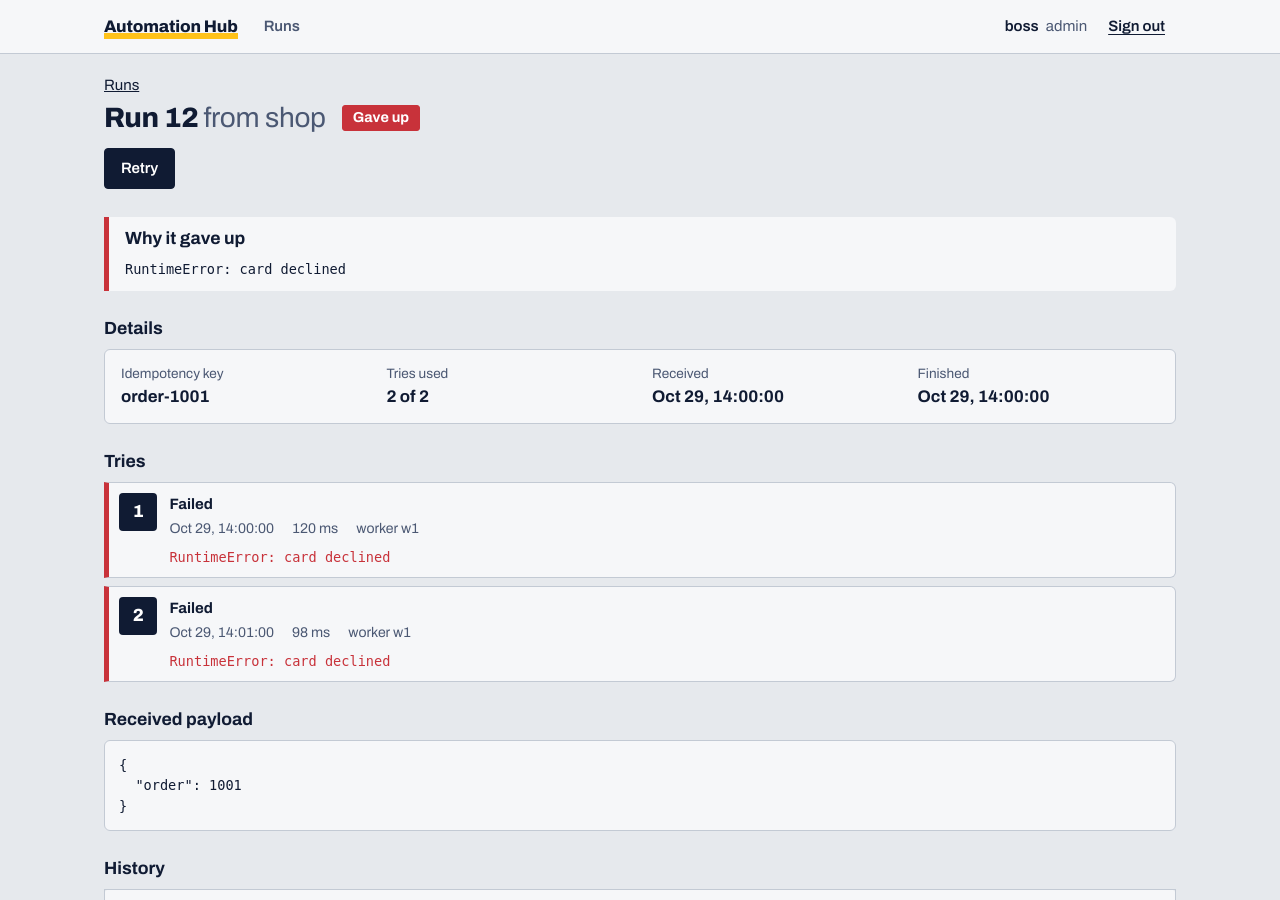
run detail › shows the server's reason when a retry is refused
The image size is (1280, 900).
Step 1. Click the button "Retry" → click(140, 168), box [104,148,175,189]
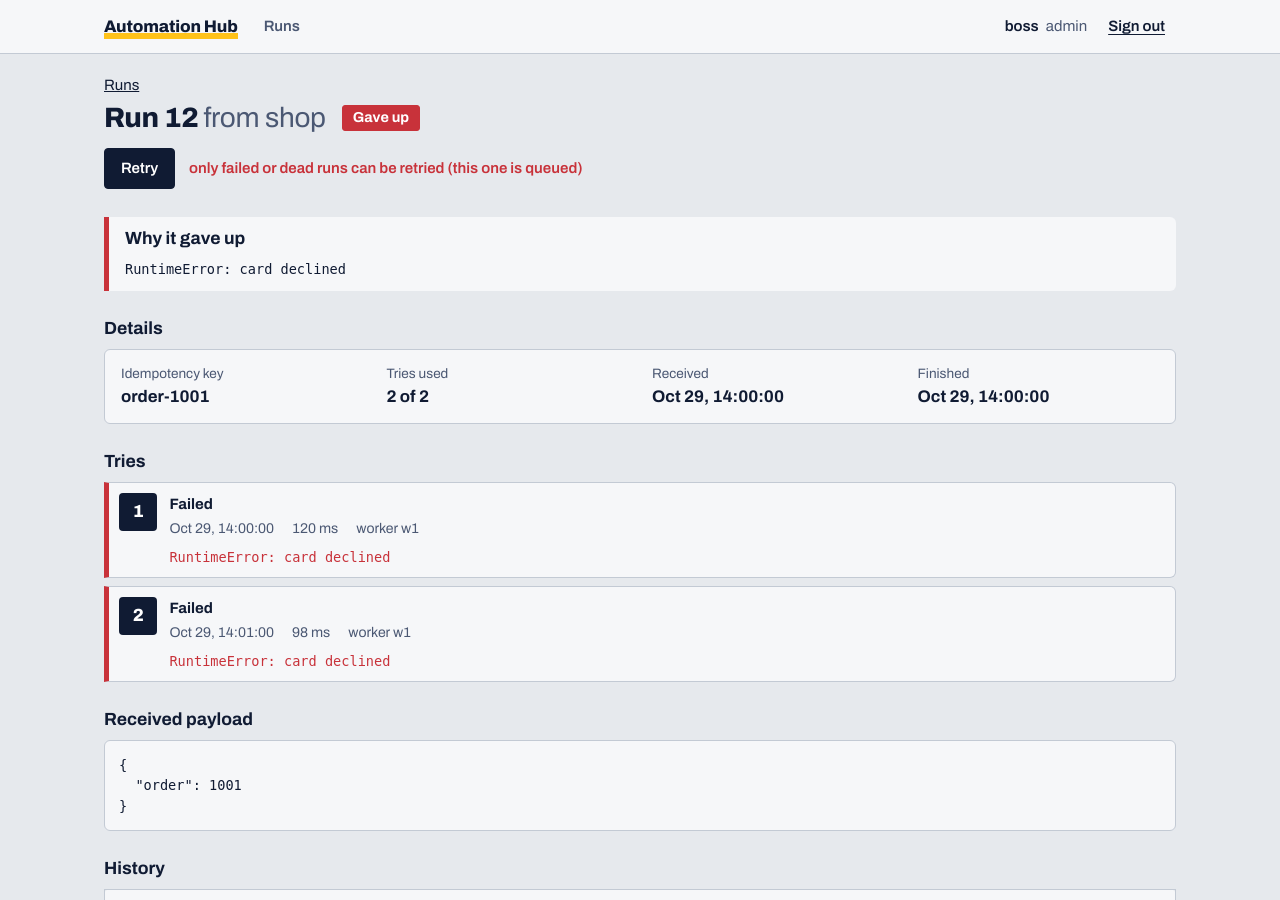
Result: the text "only failed or dead runs can be retried (this one is queued)" is shown at [189,157,583,180]
